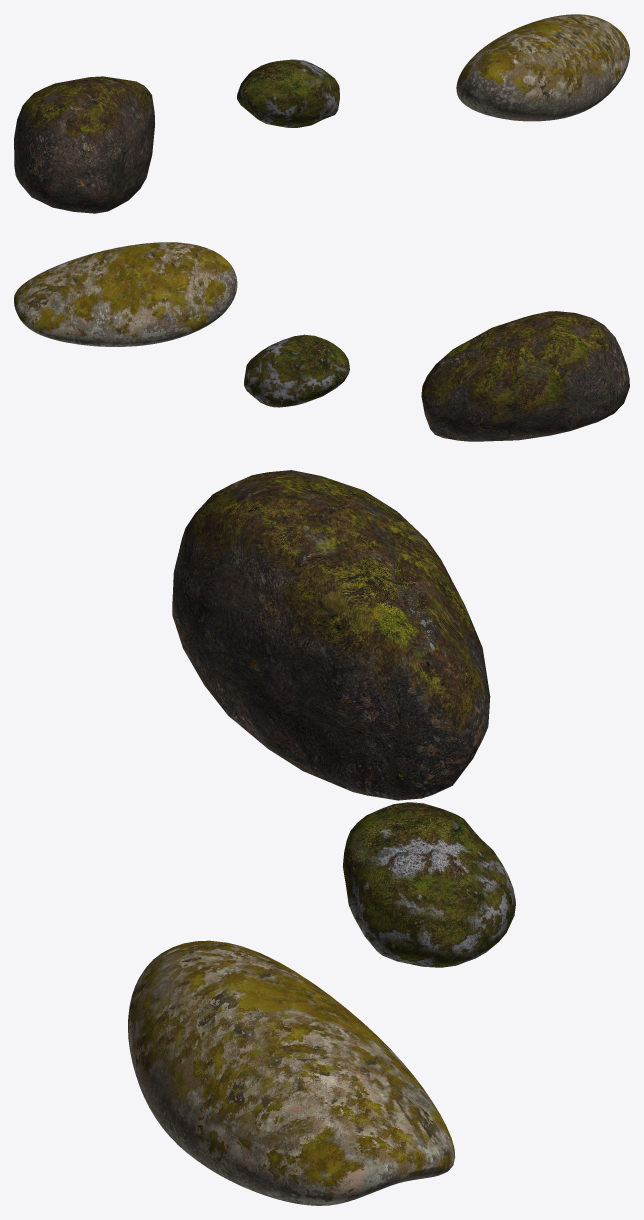
Rendered from rock_pack.glb.
The picture shows the model from 3 angles, top to bottom: view 1: azimuth 30°, elevation 25°; view 2: azimuth 150°, elevation 25°; view 3: azimuth 270°, elevation 25°; orthographic projection. The views are drawn at different scales.
Visible parts, largest first — view 1: Rock6, Rock12, Rock10; view 2: Rock6, Rock12, Rock10; view 3: Rock6, Rock12, Rock10.
Boxes of the visible parts, x1,y1,x2,y2 form: Rock6: (14, 76, 154, 213); Rock12: (456, 14, 629, 121); Rock10: (237, 59, 339, 127); Rock6: (421, 311, 629, 441); Rock12: (14, 242, 237, 346); Rock10: (244, 334, 349, 407); Rock6: (172, 470, 490, 800); Rock12: (128, 940, 455, 1205); Rock10: (342, 802, 515, 967).
Size of the model in its own units: 2 by 0.394 by 0.5777.
Materials: 3 (3 with a texture image).
